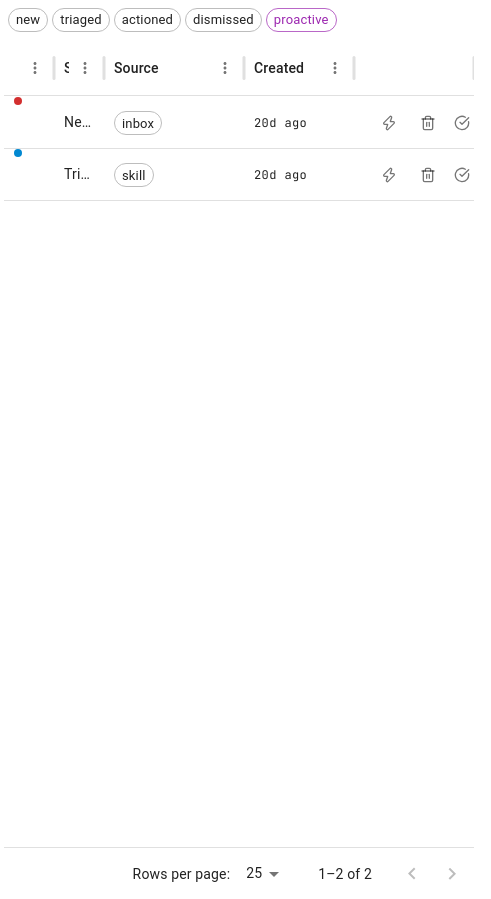
it: FeedInboxSection › proactive toggle shows only proactive-type signals
Check: the button "New one" is shown, box [64,114,104,130]
Click the button "proactive" at (301, 20), box [266,8,337,32]
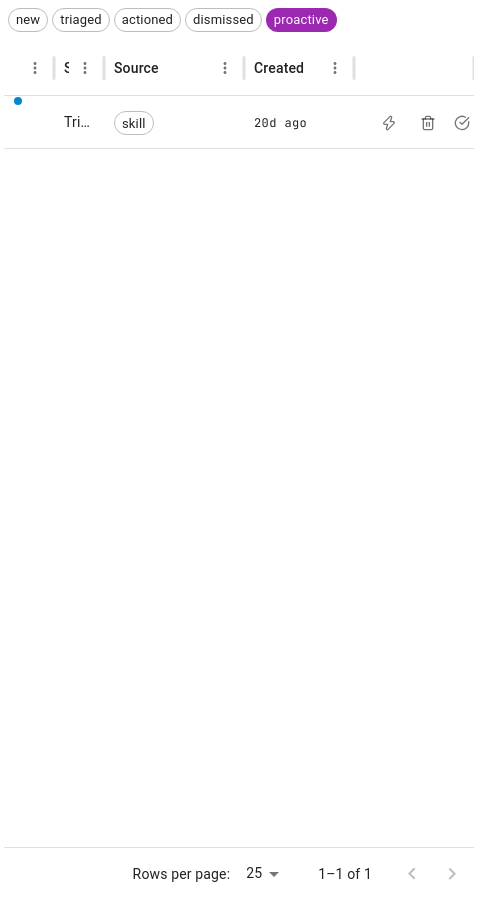
Check: the button "New one" is gone
